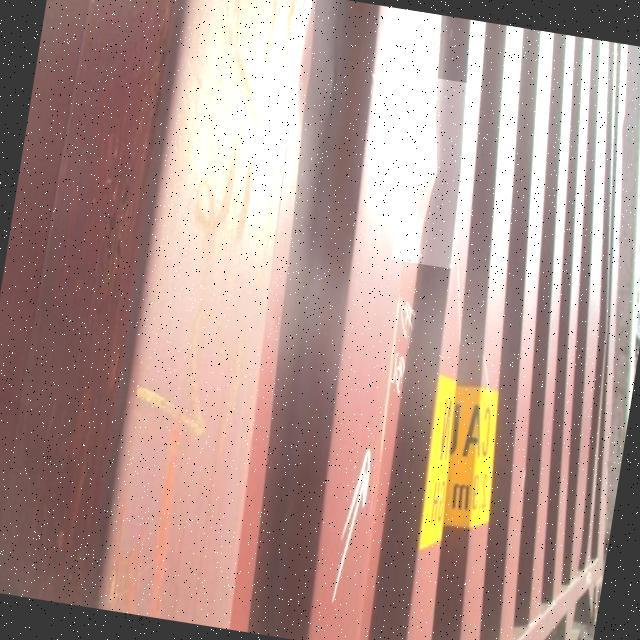Minor-Dent: (392, 76, 480, 269)
